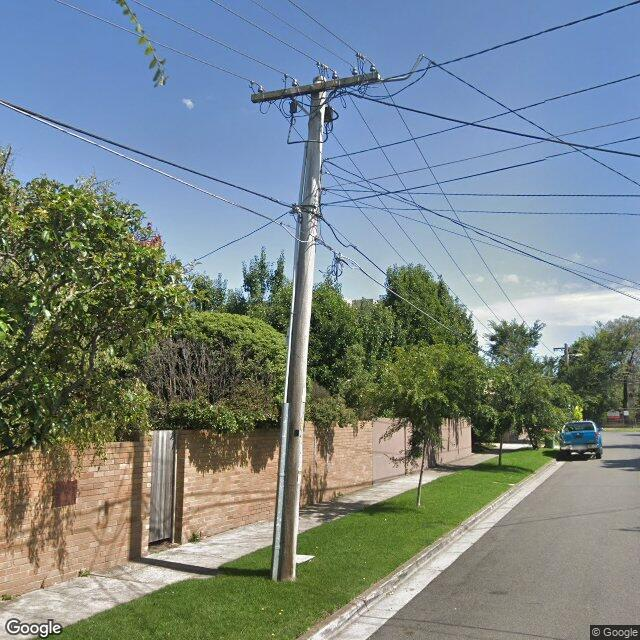crossarm: (246, 52, 382, 114), (553, 347, 580, 352)
timber-pole: (270, 76, 328, 582), (564, 342, 570, 366)
